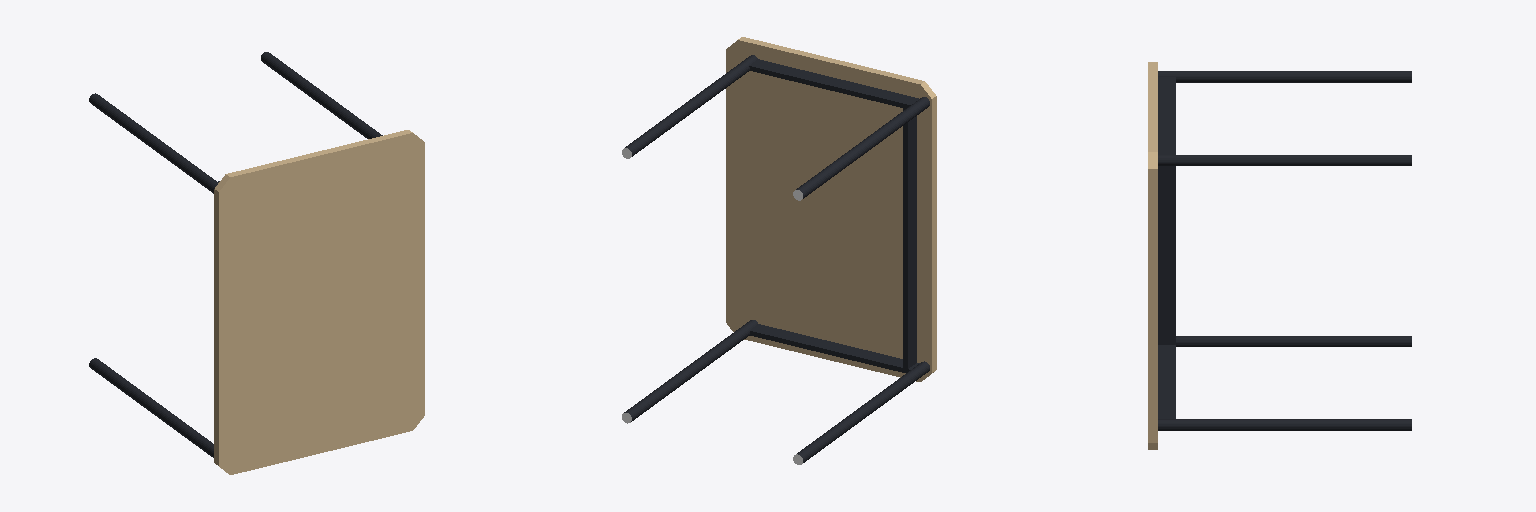
File: table.obj
3 renders of one model, left to right at view 1: azimuth 30°, elevation 25°; view 2: azimuth 150°, elevation 25°; view 3: azimuth 270°, elevation 25°, orthographic.
Parts seen in each view (by area): view 1: Mesh1 room_main_table_presenter1 Model; view 2: Mesh1 room_main_table_presenter1 Model; view 3: Mesh1 room_main_table_presenter1 Model.
Part boxes in pixels (left/top/right/bottom): Mesh1 room_main_table_presenter1 Model: left=89, top=52, right=424, bottom=474; Mesh1 room_main_table_presenter1 Model: left=622, top=37, right=936, bottom=464; Mesh1 room_main_table_presenter1 Model: left=1148, top=62, right=1411, bottom=449.
Size of the model in its own units: 0.65 by 0.9 by 0.72.